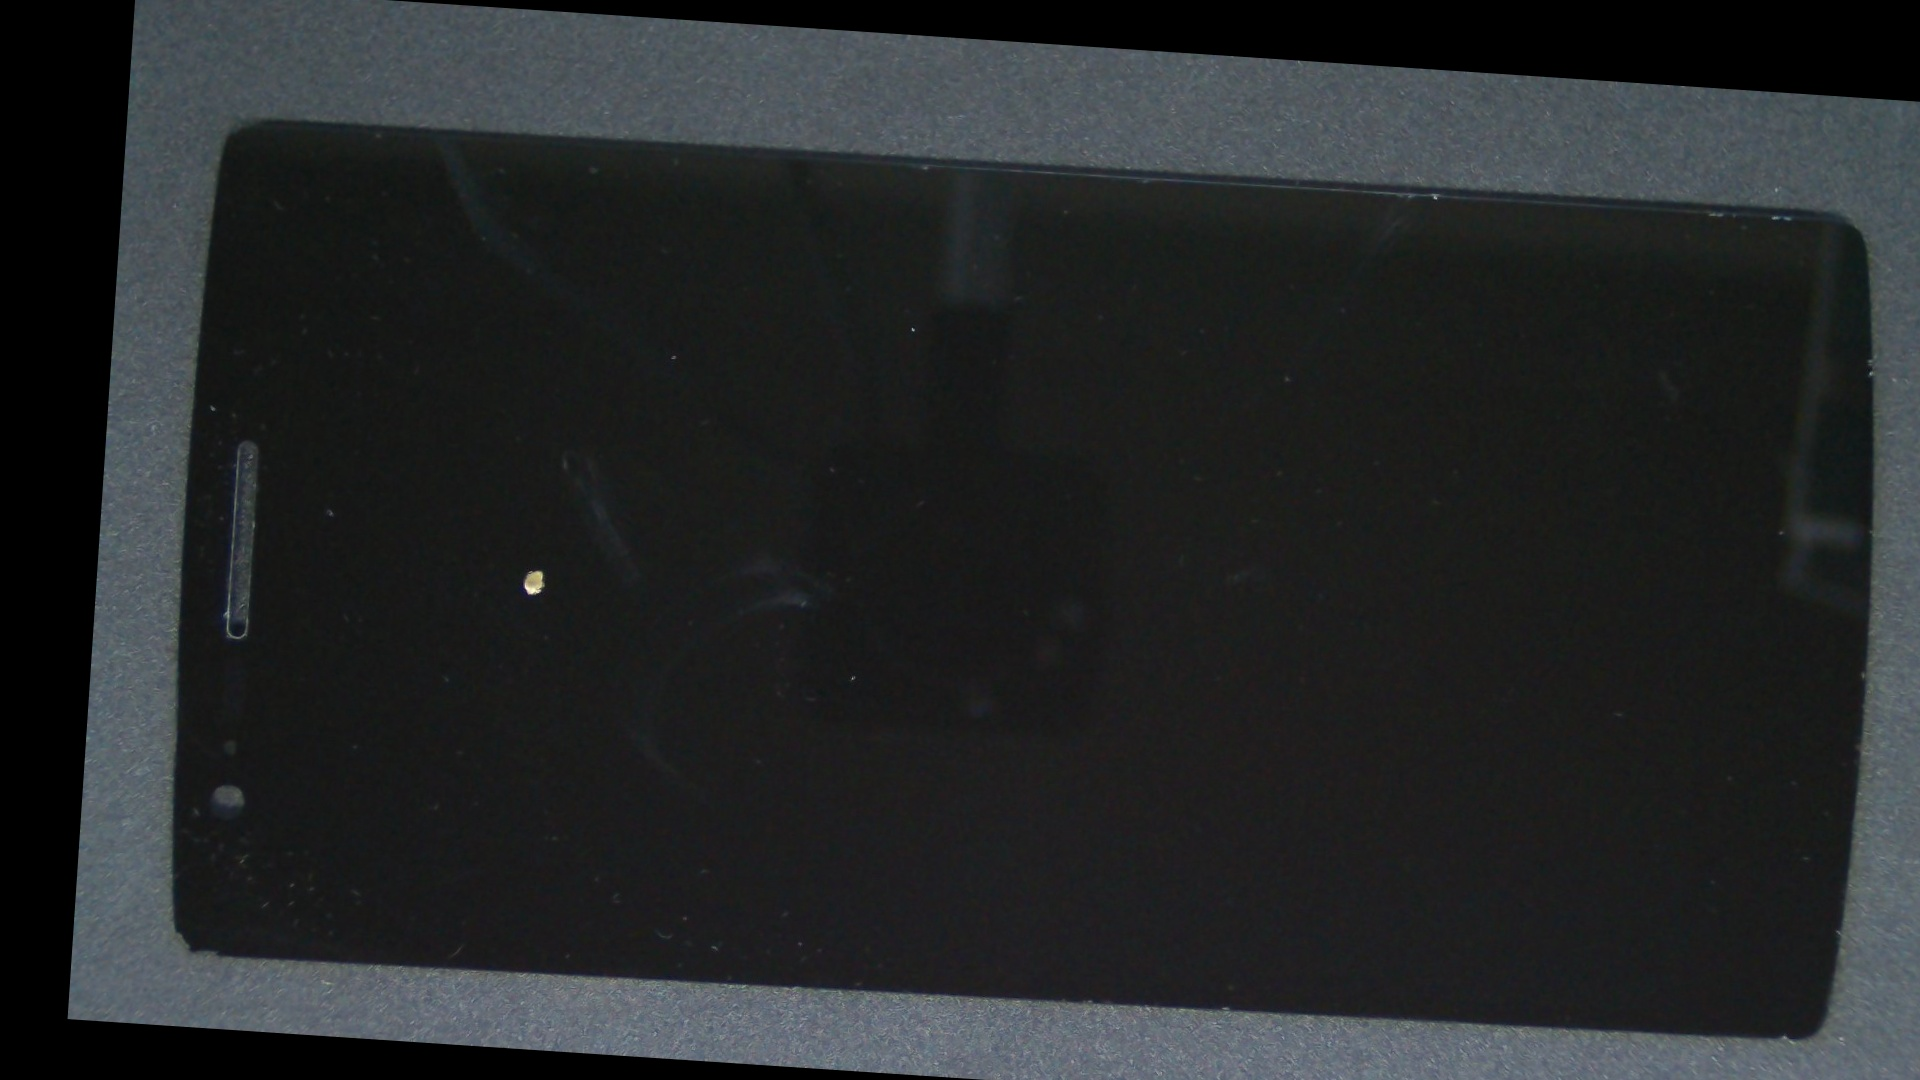oil: (301, 276, 775, 860)
